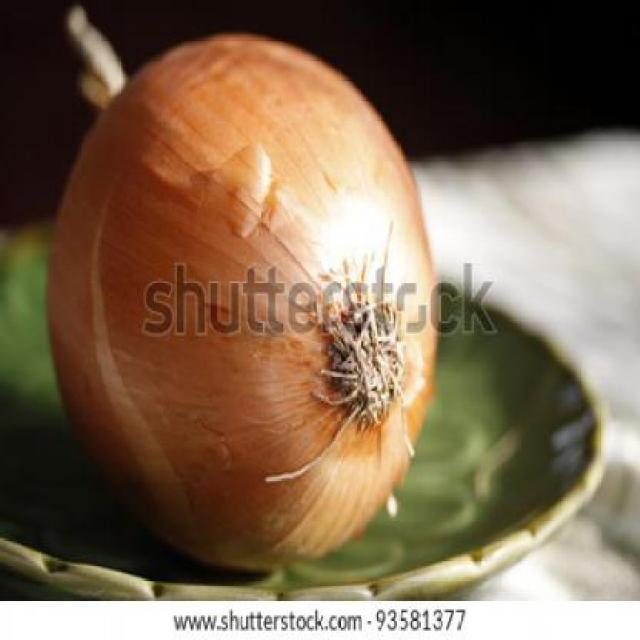Onion: (48, 34, 438, 572)
